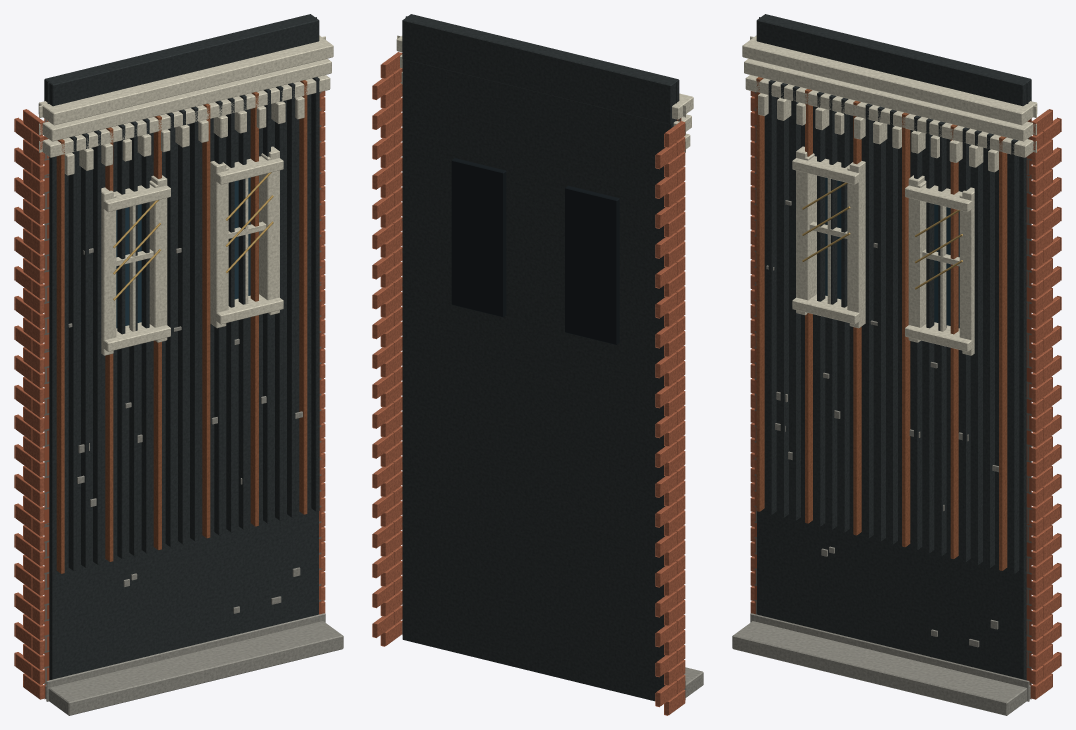
File: WHSE14_lod0.glb
3 views of the same model, side by side, from view 1: azimuth 30°, elevation 25°; view 2: azimuth 150°, elevation 25°; view 3: azimuth 330°, elevation 25° (orthographic).
Visible parts, largest first — view 1: WHSE14_FRONT_LOD0; view 2: WHSE14_FRONT_LOD0; view 3: WHSE14_FRONT_LOD0.
Part boxes in pixels (bbox=[...]): WHSE14_FRONT_LOD0: bbox=[14, 14, 343, 715]; WHSE14_FRONT_LOD0: bbox=[372, 14, 703, 715]; WHSE14_FRONT_LOD0: bbox=[732, 14, 1061, 715].
Bounding box in the file's own units: 3.44 × 7.05 × 1.02.
12 materials, 9 textured.
